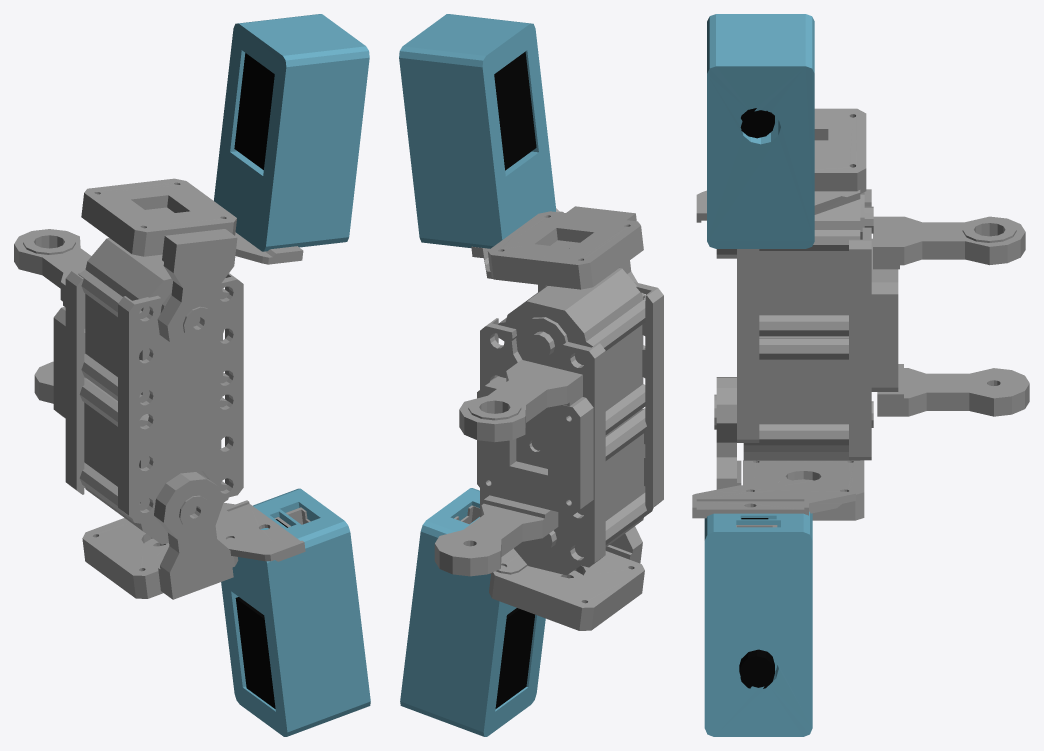
The model's file is head-neck-p.glb.
The picture shows the model from 3 angles, left to right: view 1: azimuth 30°, elevation 25°; view 2: azimuth 150°, elevation 25°; view 3: azimuth 270°, elevation 25°; orthographic projection.
Size of the model in its own units: 0.0594 by 0.1702 by 0.0752.
